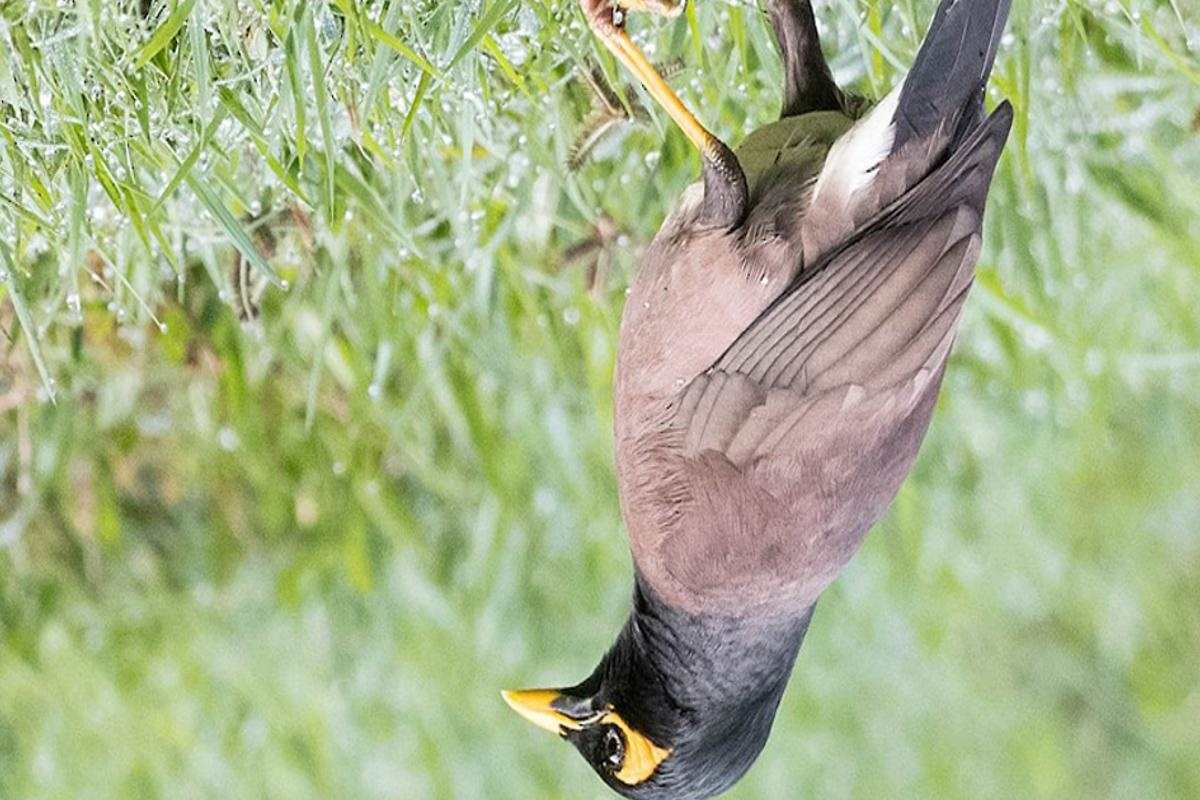myna: (493, 32, 985, 800)
